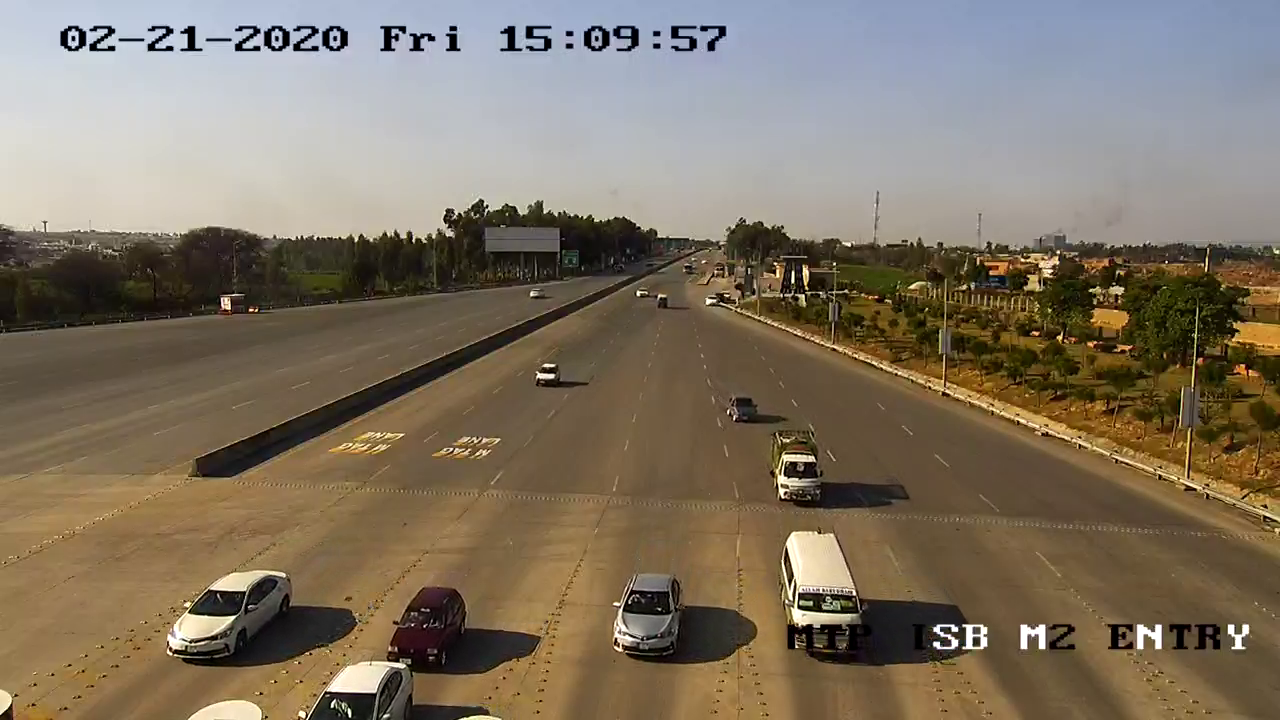f1: (160, 557, 303, 669), (603, 558, 691, 668), (386, 573, 472, 676)
f2: (771, 526, 877, 667), (765, 423, 834, 509)
